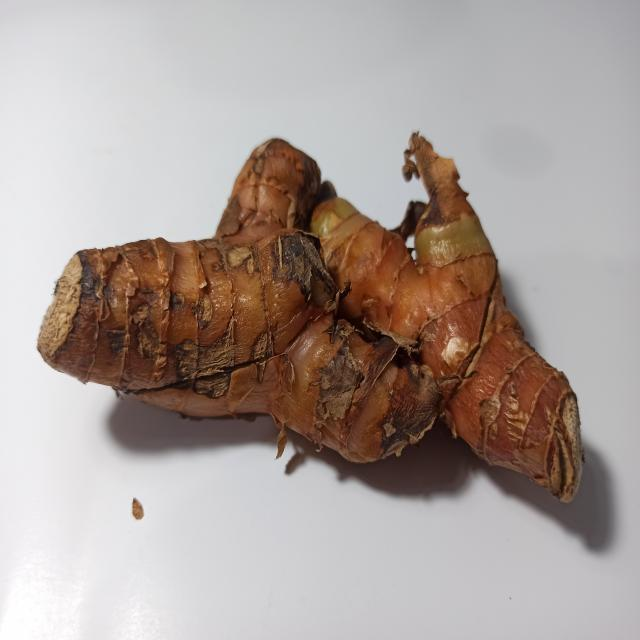ginger: (31, 133, 566, 483)
